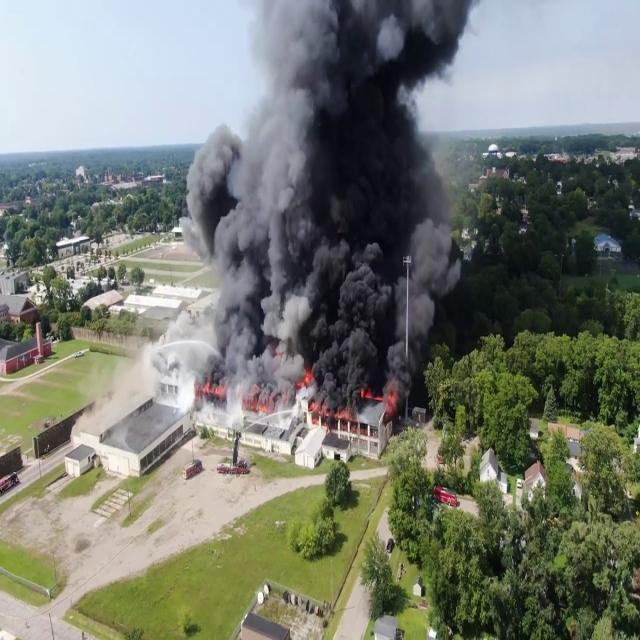Smoke: (176, 0, 487, 386)
